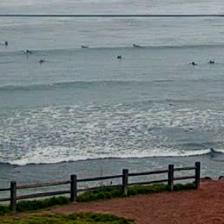surfer: (22, 49, 34, 54), (191, 61, 197, 66), (116, 54, 122, 59), (38, 59, 44, 64), (208, 60, 214, 64), (81, 46, 89, 49), (133, 44, 140, 47), (5, 41, 9, 46)
